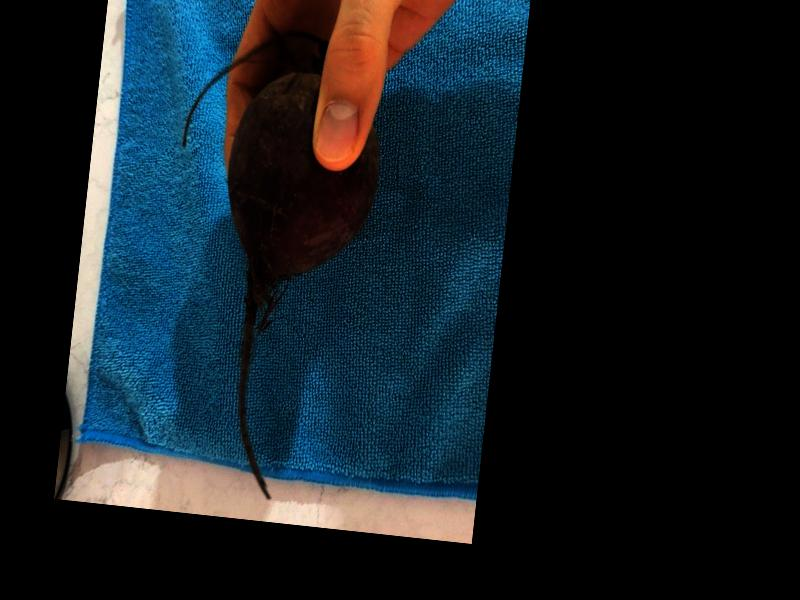Beet: (146, 21, 393, 509)
